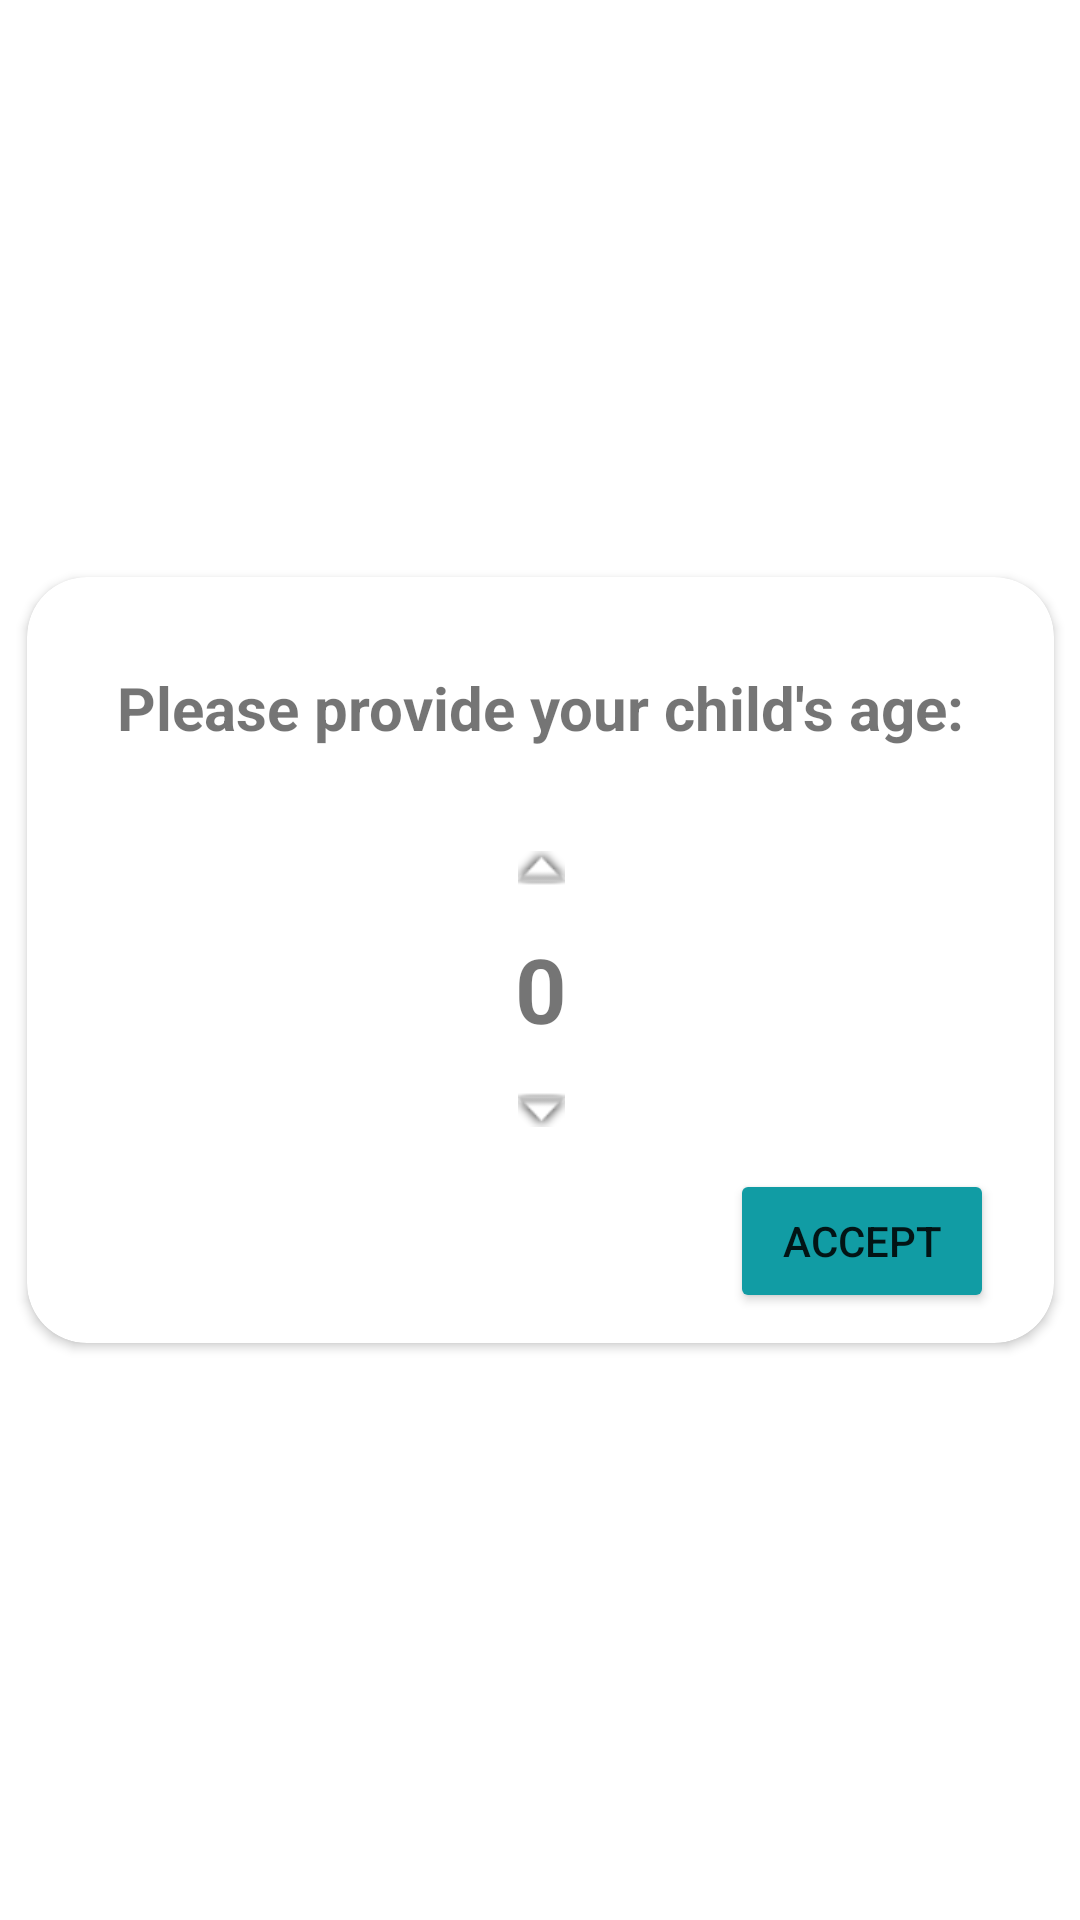

Icon click points for this 1080 × 1920 phone screenshot, format [x,y]:
add one more: [541,868]
arrow down float: [541,1110]
